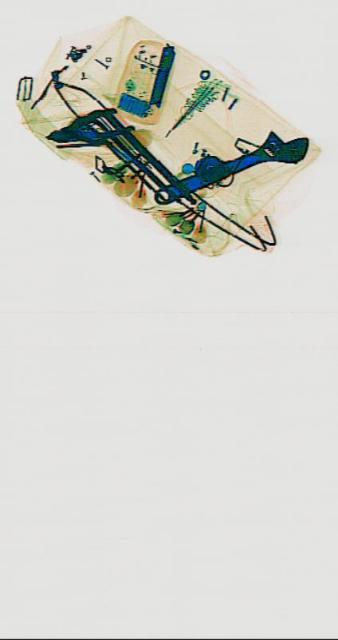Pliers: (42, 96, 133, 158)
Wrench: (150, 114, 309, 218)
